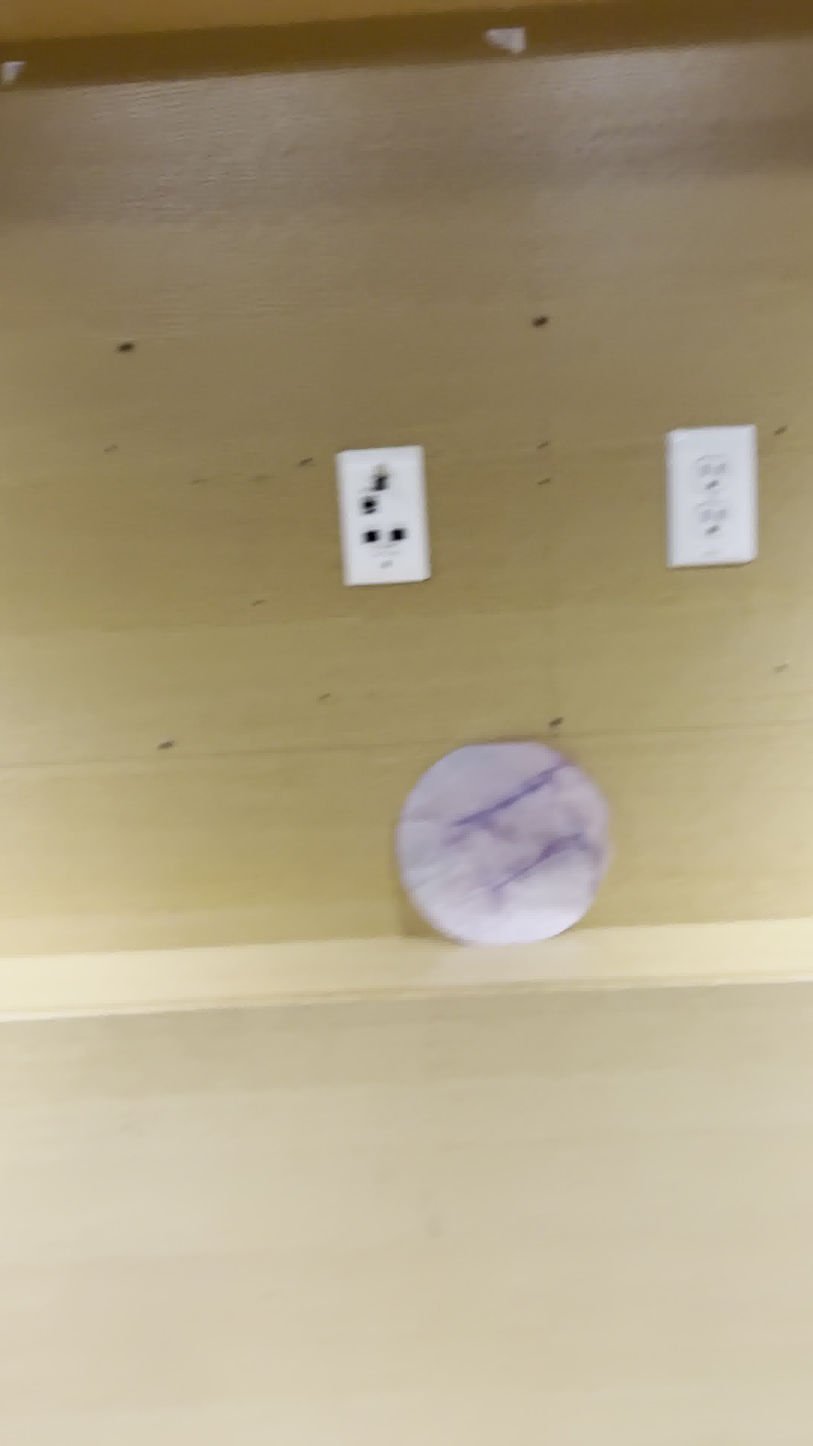Target: (377, 740, 629, 945)
